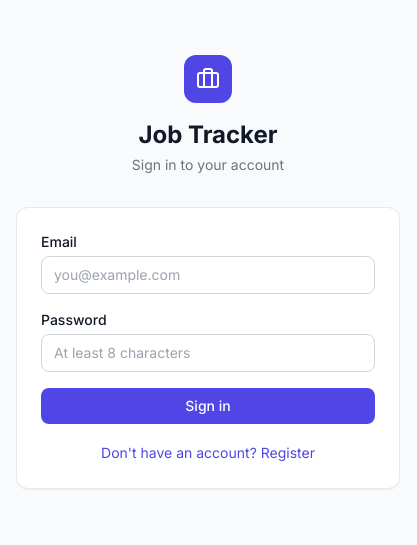
it: Login page › clears the error message when the user toggles between login and register
The image size is (417, 545).
Check: the text "Sign in to your account" is shown, box [132, 156, 284, 173]
Note: Trigger an error
In the field labelled "Email": (208, 275) [41, 256, 375, 294], type "wrong@example.com"
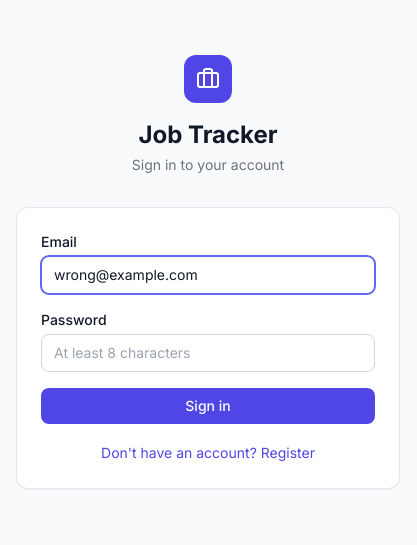
In the password field labelled "Password": (208, 353) [41, 334, 375, 372], type "badpassword"
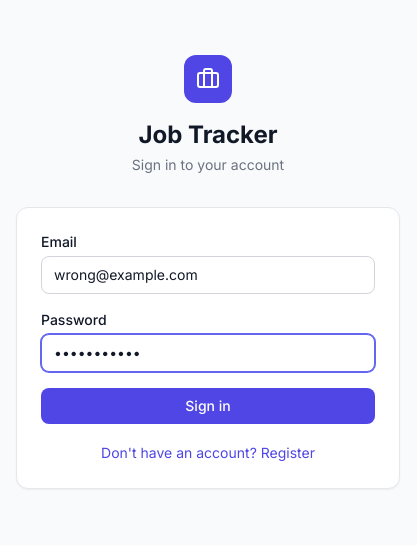
Click the button "Sign in": click(208, 406) [41, 388, 375, 424]
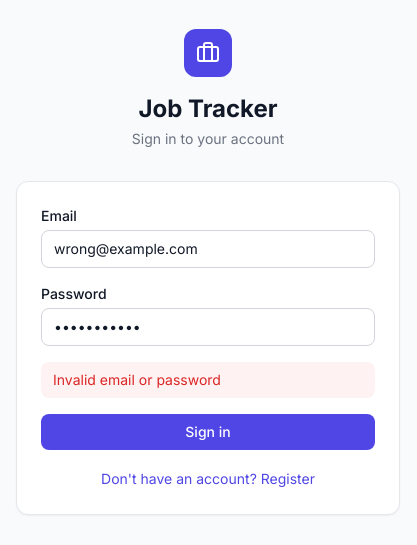
Check: the text "Invalid email or password" is shown, box [41, 362, 375, 398]
Note: Toggle clears the error
Click the button "Don't have an account? Register": click(208, 479) [101, 469, 315, 489]
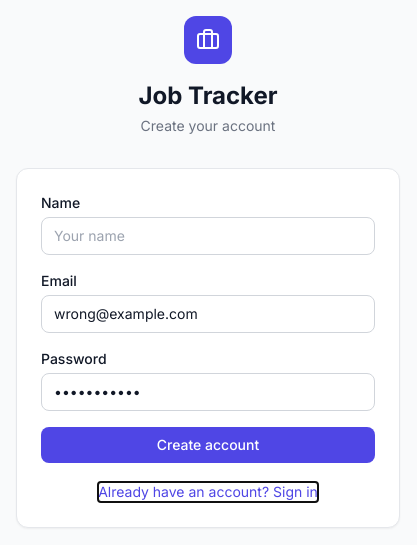
Check: the text "Invalid email or password" is gone
